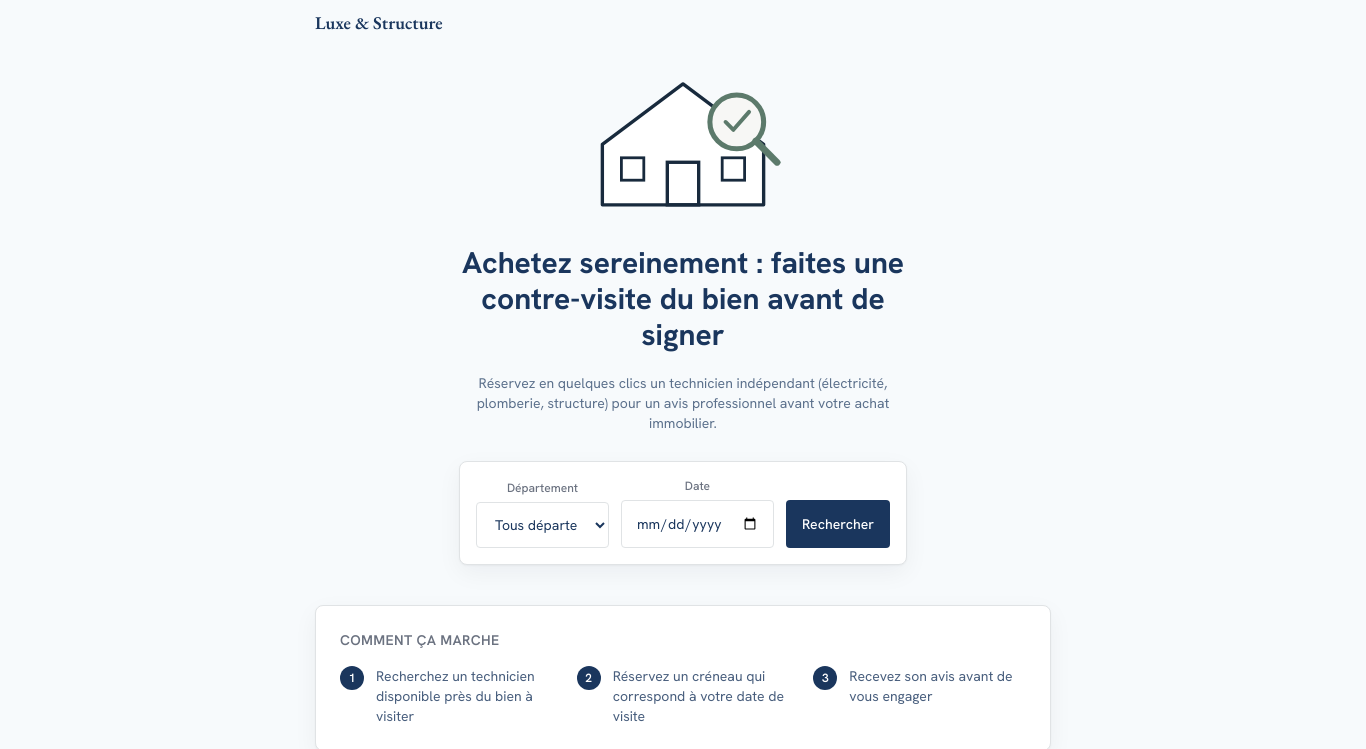
Test case: Search — recherche et scroll infini › charge la page suivante quand la sentinelle de scroll devient visible
The image size is (1366, 749).
Step 1. Click the button "Rechercher" → [838, 524], box x1=786 y1=500 x2=890 y2=548
(page scrolled)
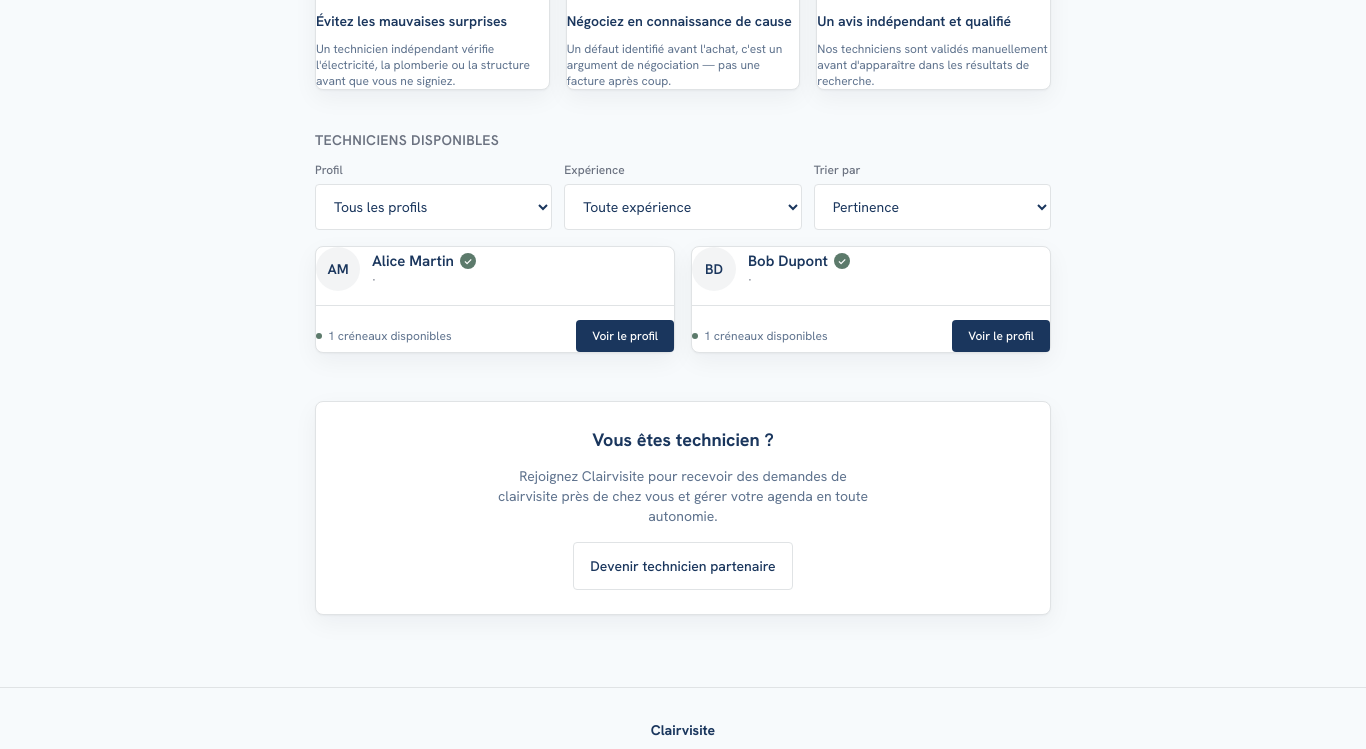
Now the text "Bob Dupont ✓" is shown, box x1=748 y1=251 x2=850 y2=271
Now the text "Alice Martin ✓" is shown, box x1=372 y1=251 x2=476 y2=271
